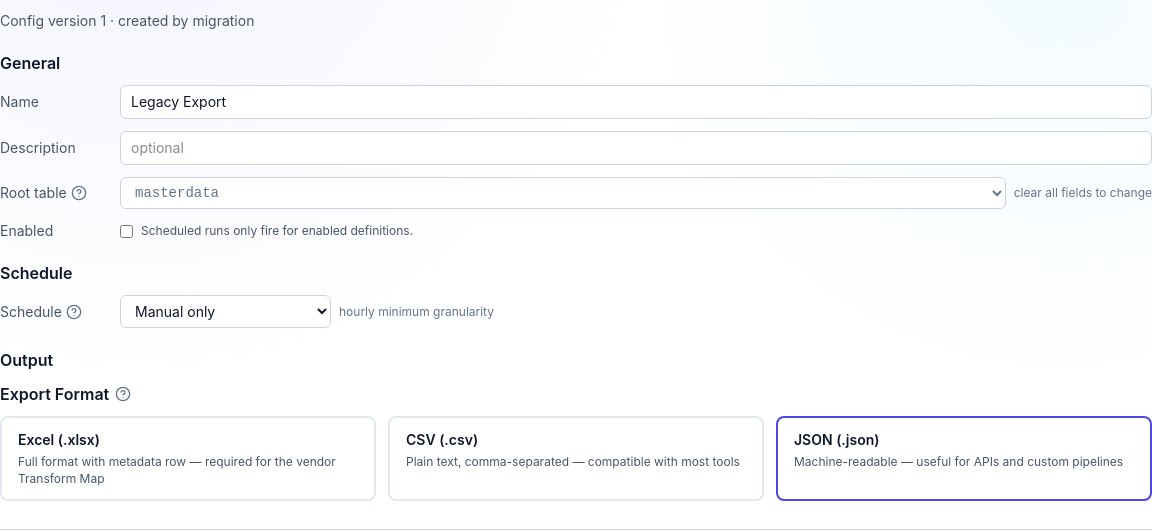
Test: ExportDefinitionEditView › saves the edited name and source field
Replace the text in the field named "Name" with "Renamed Export". click: (636, 102)
box: [120, 85, 1151, 119]
(page scrolled)
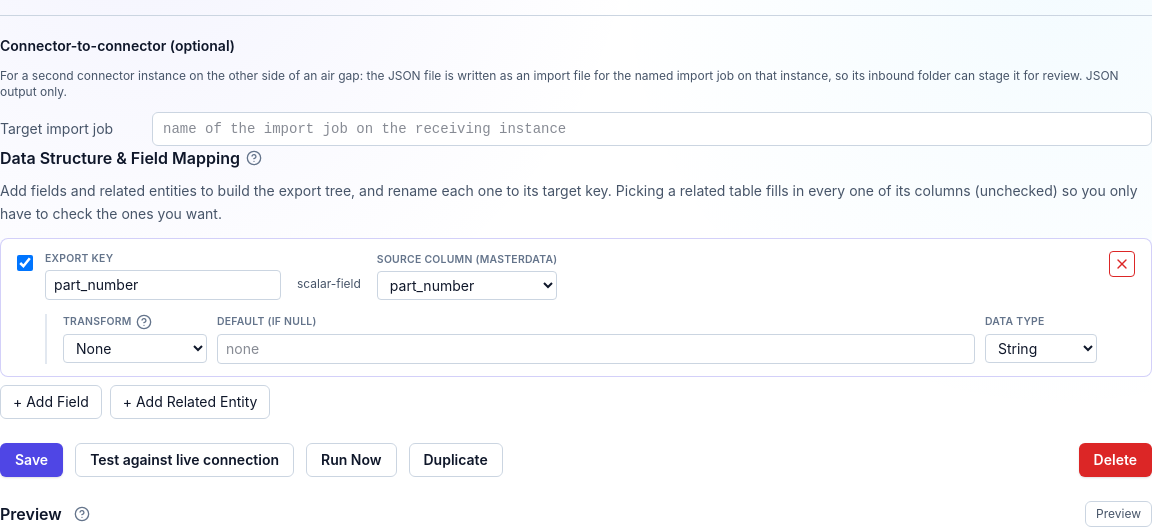
Select "serial_number" in the dropdown named "Source column". click: (467, 286)
box: [377, 271, 557, 300]
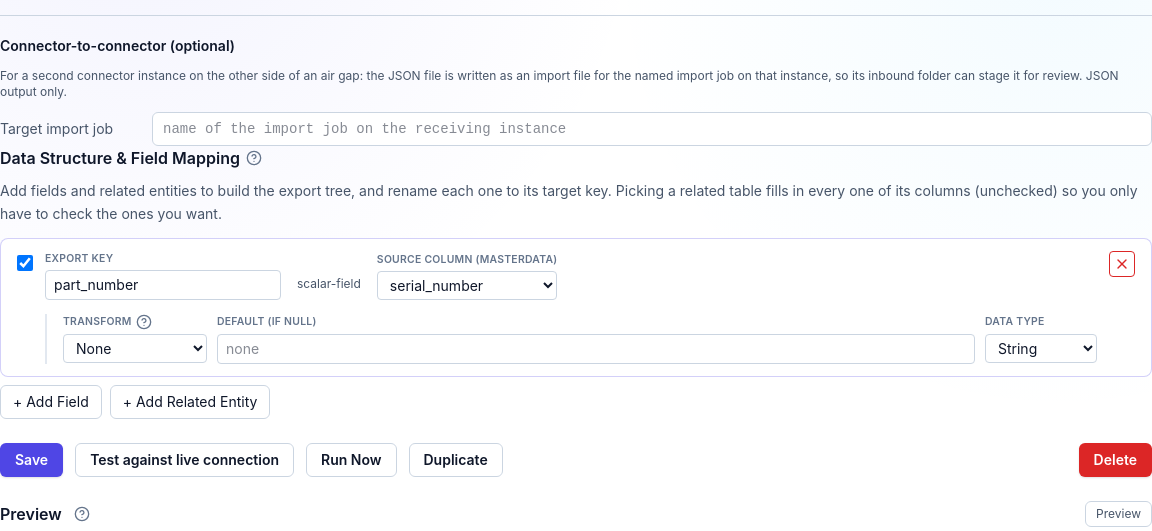
Click the button "Save". click: (32, 460)
box: [0, 443, 63, 477]
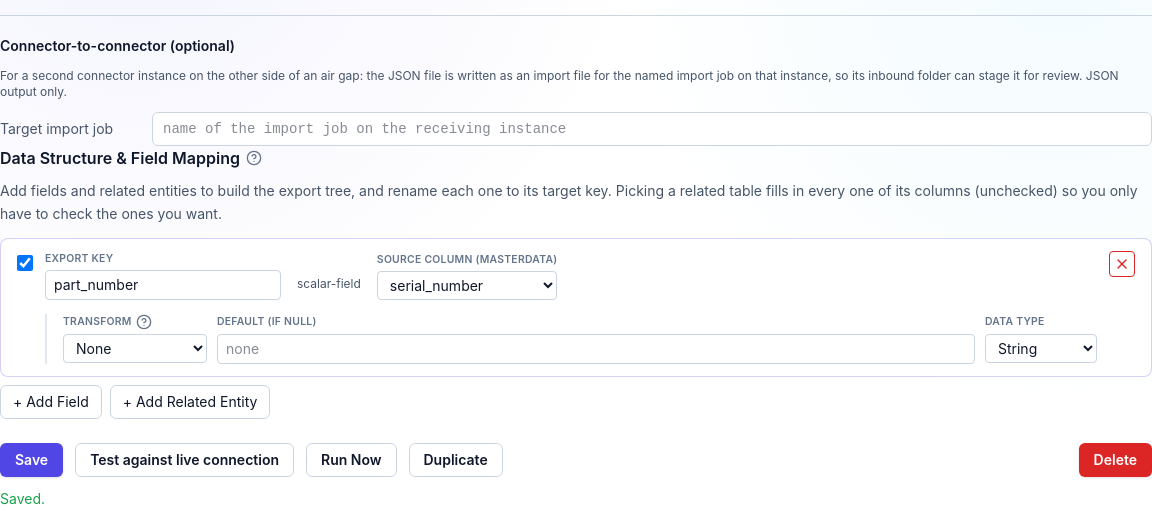
Result: the text "Saved." is shown at [0, 490, 45, 507]
